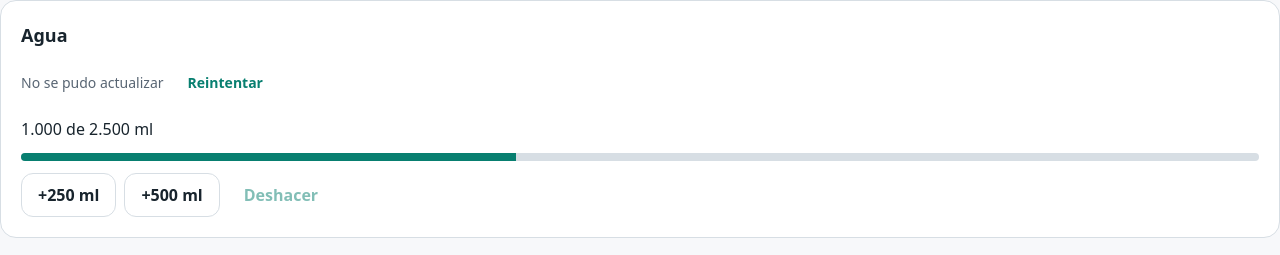
Test: avisa si falla la recarga con caché y reintenta conservando el valor
This screenshot has width=1280, height=255.
Expected: the text "No se pudo actualizar" is shown, [21,73,164,93]
Expected: the text "1.000 de 2.500 ml" is shown, [21,118,153,140]
Step 1. Click the button "Reintentar" → (225, 83), box [172,61,279,105]
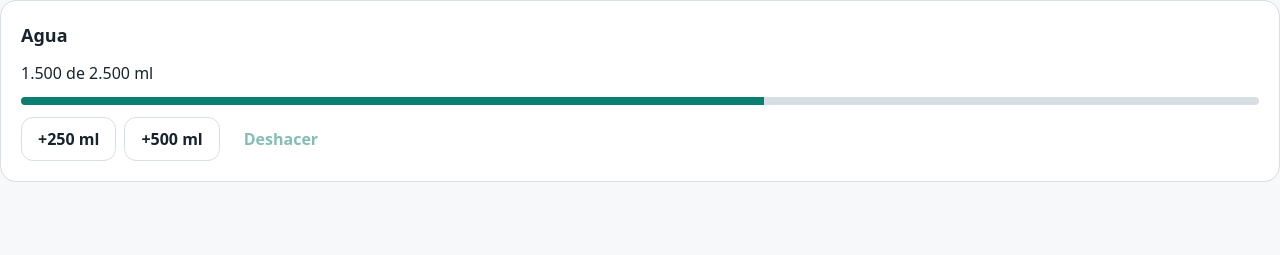
Expected: the text "1.500 de 2.500 ml" is shown, [21,62,153,84]
Expected: the text "No se pudo actualizar" is gone
